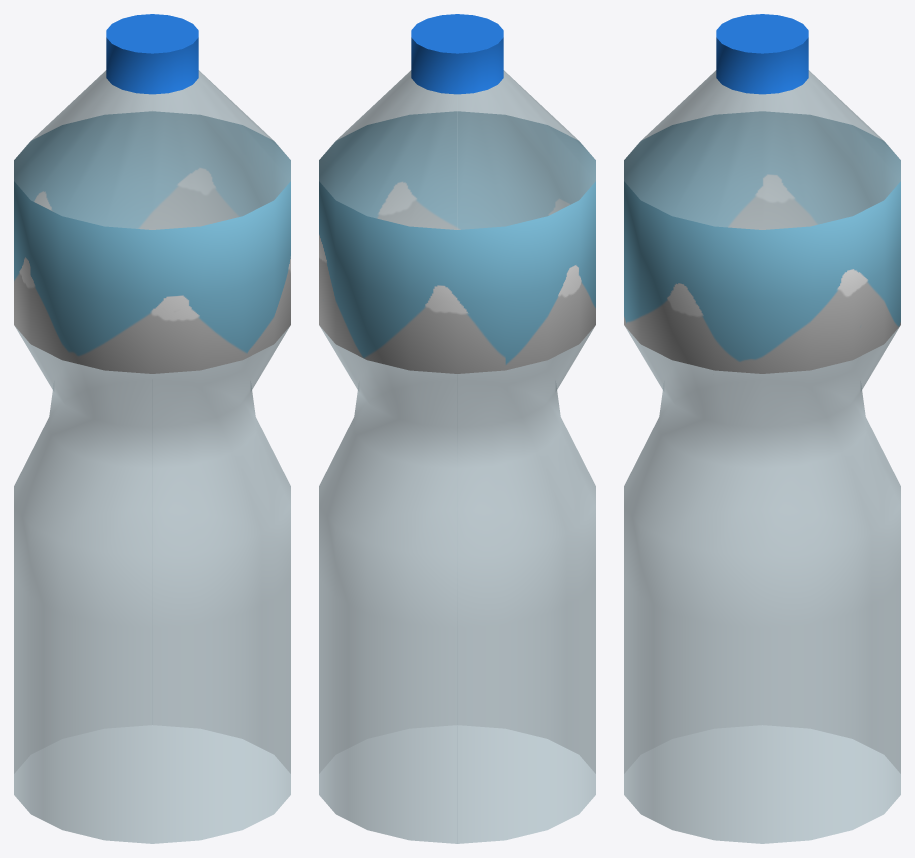
File: Botella.FBX
3 views of the same model, side by side, from view 1: azimuth 30°, elevation 25°; view 2: azimuth 150°, elevation 25°; view 3: azimuth 270°, elevation 25° (orthographic).
Parts seen in each view (by area): view 1: Cylinder001; view 2: Cylinder001; view 3: Cylinder001.
Part boxes in pixels (bbox=[...]): Cylinder001: bbox=[14, 14, 290, 843]; Cylinder001: bbox=[319, 14, 595, 843]; Cylinder001: bbox=[624, 14, 900, 843].
Bounding box in the file's own units: 10.13 × 29.82 × 9.97.
3 materials, 3 textured.
